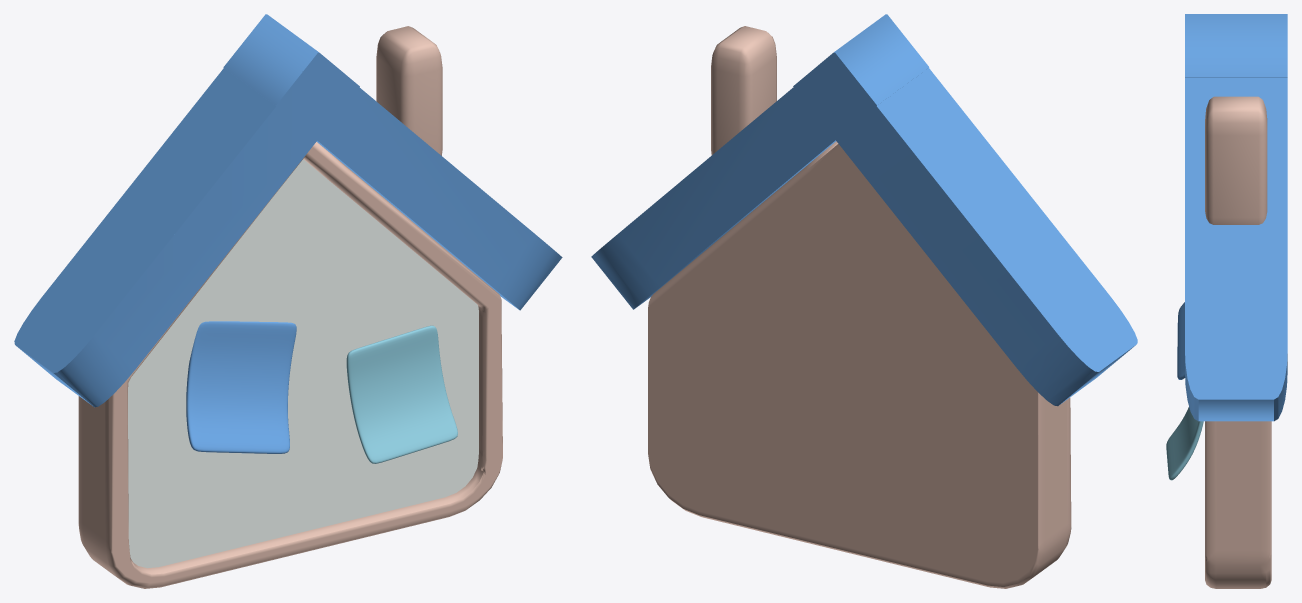
Rendered from guestbook.glb.
The picture shows the model from 3 angles, left to right: view 1: azimuth 30°, elevation 25°; view 2: azimuth 150°, elevation 25°; view 3: azimuth 270°, elevation 25°; orthographic projection. The views are drawn at different scales.
Parts seen in each view (by area): view 1: Cube.105, Cube.103, Cube.104, post it notes.001, post it notes.002, Cube.102; view 2: Cube.104, Cube.103, Cube.102; view 3: Cube.103, Cube.104, Cube.102, post it notes.002, post it notes.001.
Part boxes in pixels (x1,y1,x2,y2): Cube.105: [128, 159, 478, 568]; Cube.103: [14, 14, 562, 407]; Cube.104: [78, 142, 502, 588]; post it notes.001: [186, 321, 296, 453]; post it notes.002: [346, 325, 457, 463]; Cube.102: [376, 26, 442, 155]; Cube.104: [648, 141, 1071, 588]; Cube.103: [591, 14, 1137, 406]; Cube.102: [711, 26, 776, 154]; Cube.103: [1185, 14, 1287, 421]; Cube.104: [1205, 421, 1271, 588]; Cube.102: [1205, 96, 1267, 224]; post it notes.002: [1166, 407, 1203, 480]; post it notes.001: [1177, 302, 1185, 379].
Size of the model in its own units: 0.7645 by 0.7332 by 0.1613.
